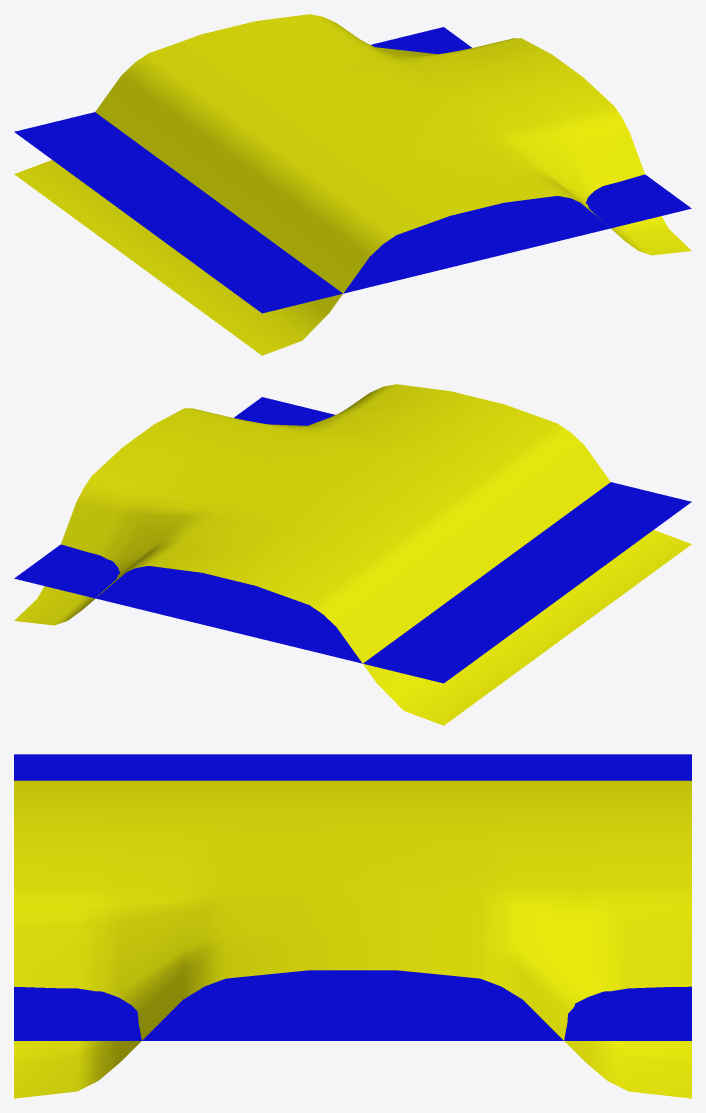
Rendered from Swamp_Lane_T.fbx.
3 views of the same model, one above another, from view 1: azimuth 30°, elevation 25°; view 2: azimuth 150°, elevation 25°; view 3: azimuth 270°, elevation 25° (orthographic). The views are drawn at different scales.
Parts seen in each view (by area): view 1: path_low, water_low; view 2: path_low, water_low; view 3: path_low, water_low.
Part boxes in pixels (x1,y1,x2,y2): path_low: (14,14,691,355); water_low: (14,27,691,313); path_low: (14,384,691,725); water_low: (14,397,691,683); path_low: (14,780,691,1098); water_low: (14,754,691,1040).
Bounding box in the file's own units: 2 × 0.4189 × 2.
